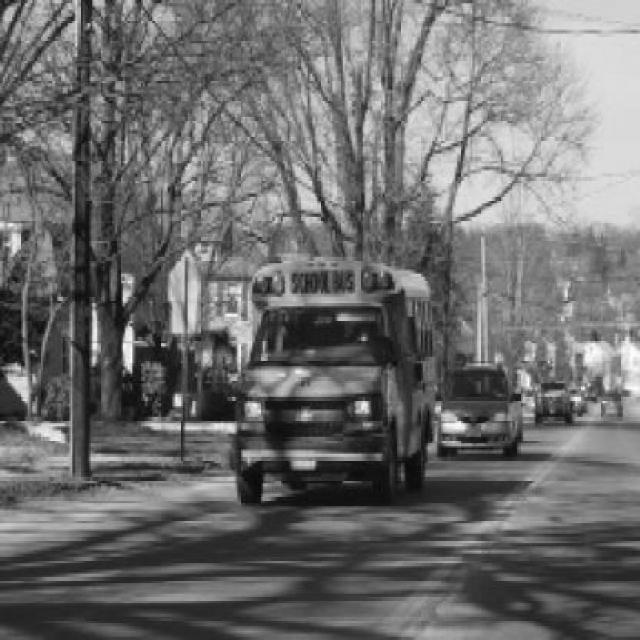Bus- Small: (232, 258, 436, 506)
Van: (437, 363, 522, 457)
